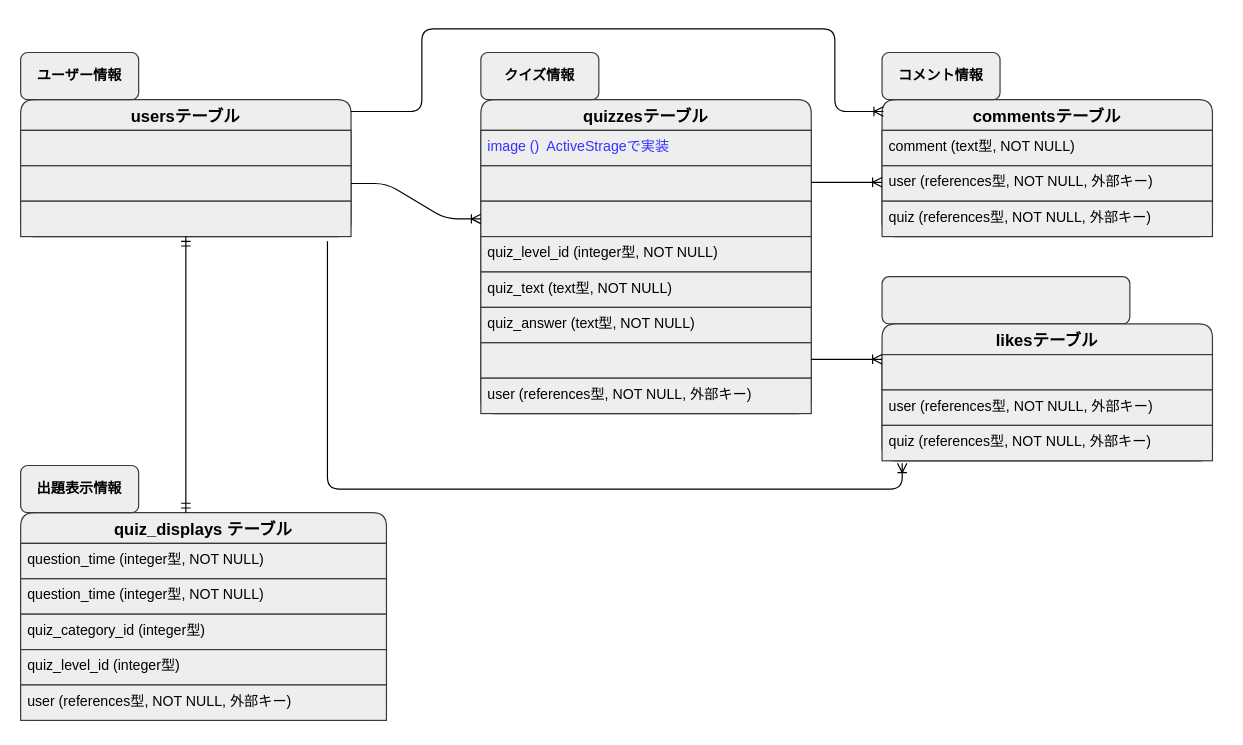
Image size: 1243x745. Some labels were removed from this diagram. The centre of each missing label's shape, as x and y in pixels:
email (string型, NOT NULL, ユニーク(一意)制約): (x=185, y=183)
encrypted_password (string型, NOT NULL): (x=185, y=218)
like_id (integer型, NOT NULL): (x=1046, y=371)
nickname (string型, NOT NULL): (x=185, y=147)
quiz_category_id (integer型, NOT NULL): (x=645, y=218)
quiz_name (string型, NOT NULL): (x=645, y=183)
quiz_sample (text型): (x=645, y=360)
評価情報(いいね！、合ってる？): (x=1005, y=300)
